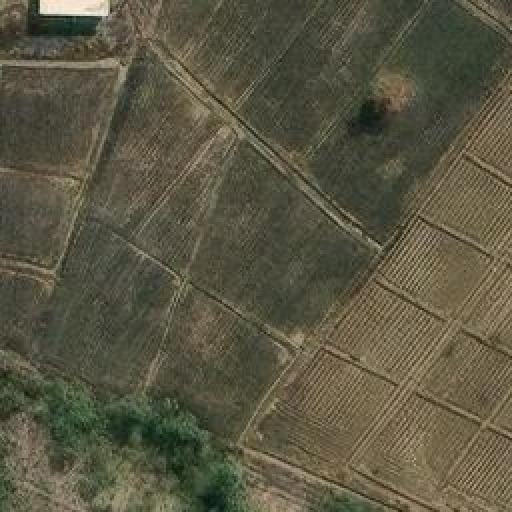manzanas: (32, 0, 109, 25)
